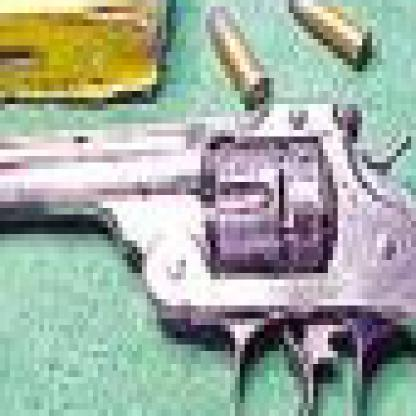gun: (0, 104, 411, 410)
